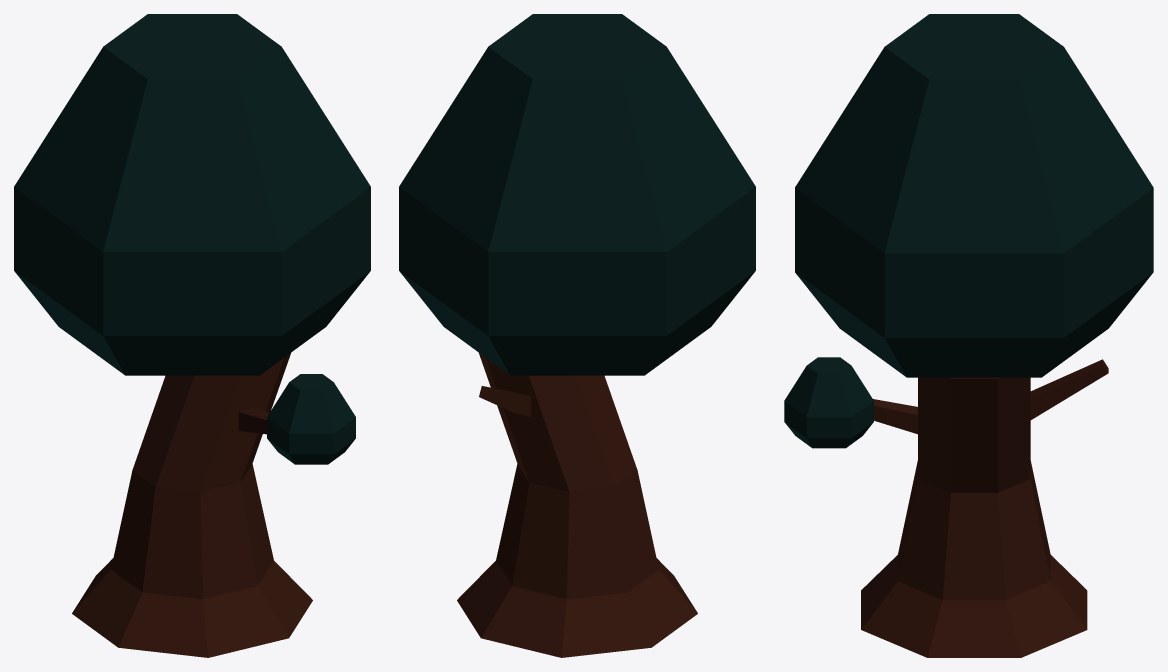
File: Tree3.fbx
The picture shows the model from 3 angles, left to right: view 1: azimuth 30°, elevation 25°; view 2: azimuth 150°, elevation 25°; view 3: azimuth 270°, elevation 25°; orthographic projection.
Visible parts, largest first — view 1: mergedBlocks; view 2: mergedBlocks; view 3: mergedBlocks.
Boxes of the visible parts, bbox=[...] form: mergedBlocks: bbox=[14, 14, 370, 657]; mergedBlocks: bbox=[399, 14, 755, 657]; mergedBlocks: bbox=[784, 14, 1153, 657].
Bounding box in the file's own units: 10 × 20 × 11.89.
